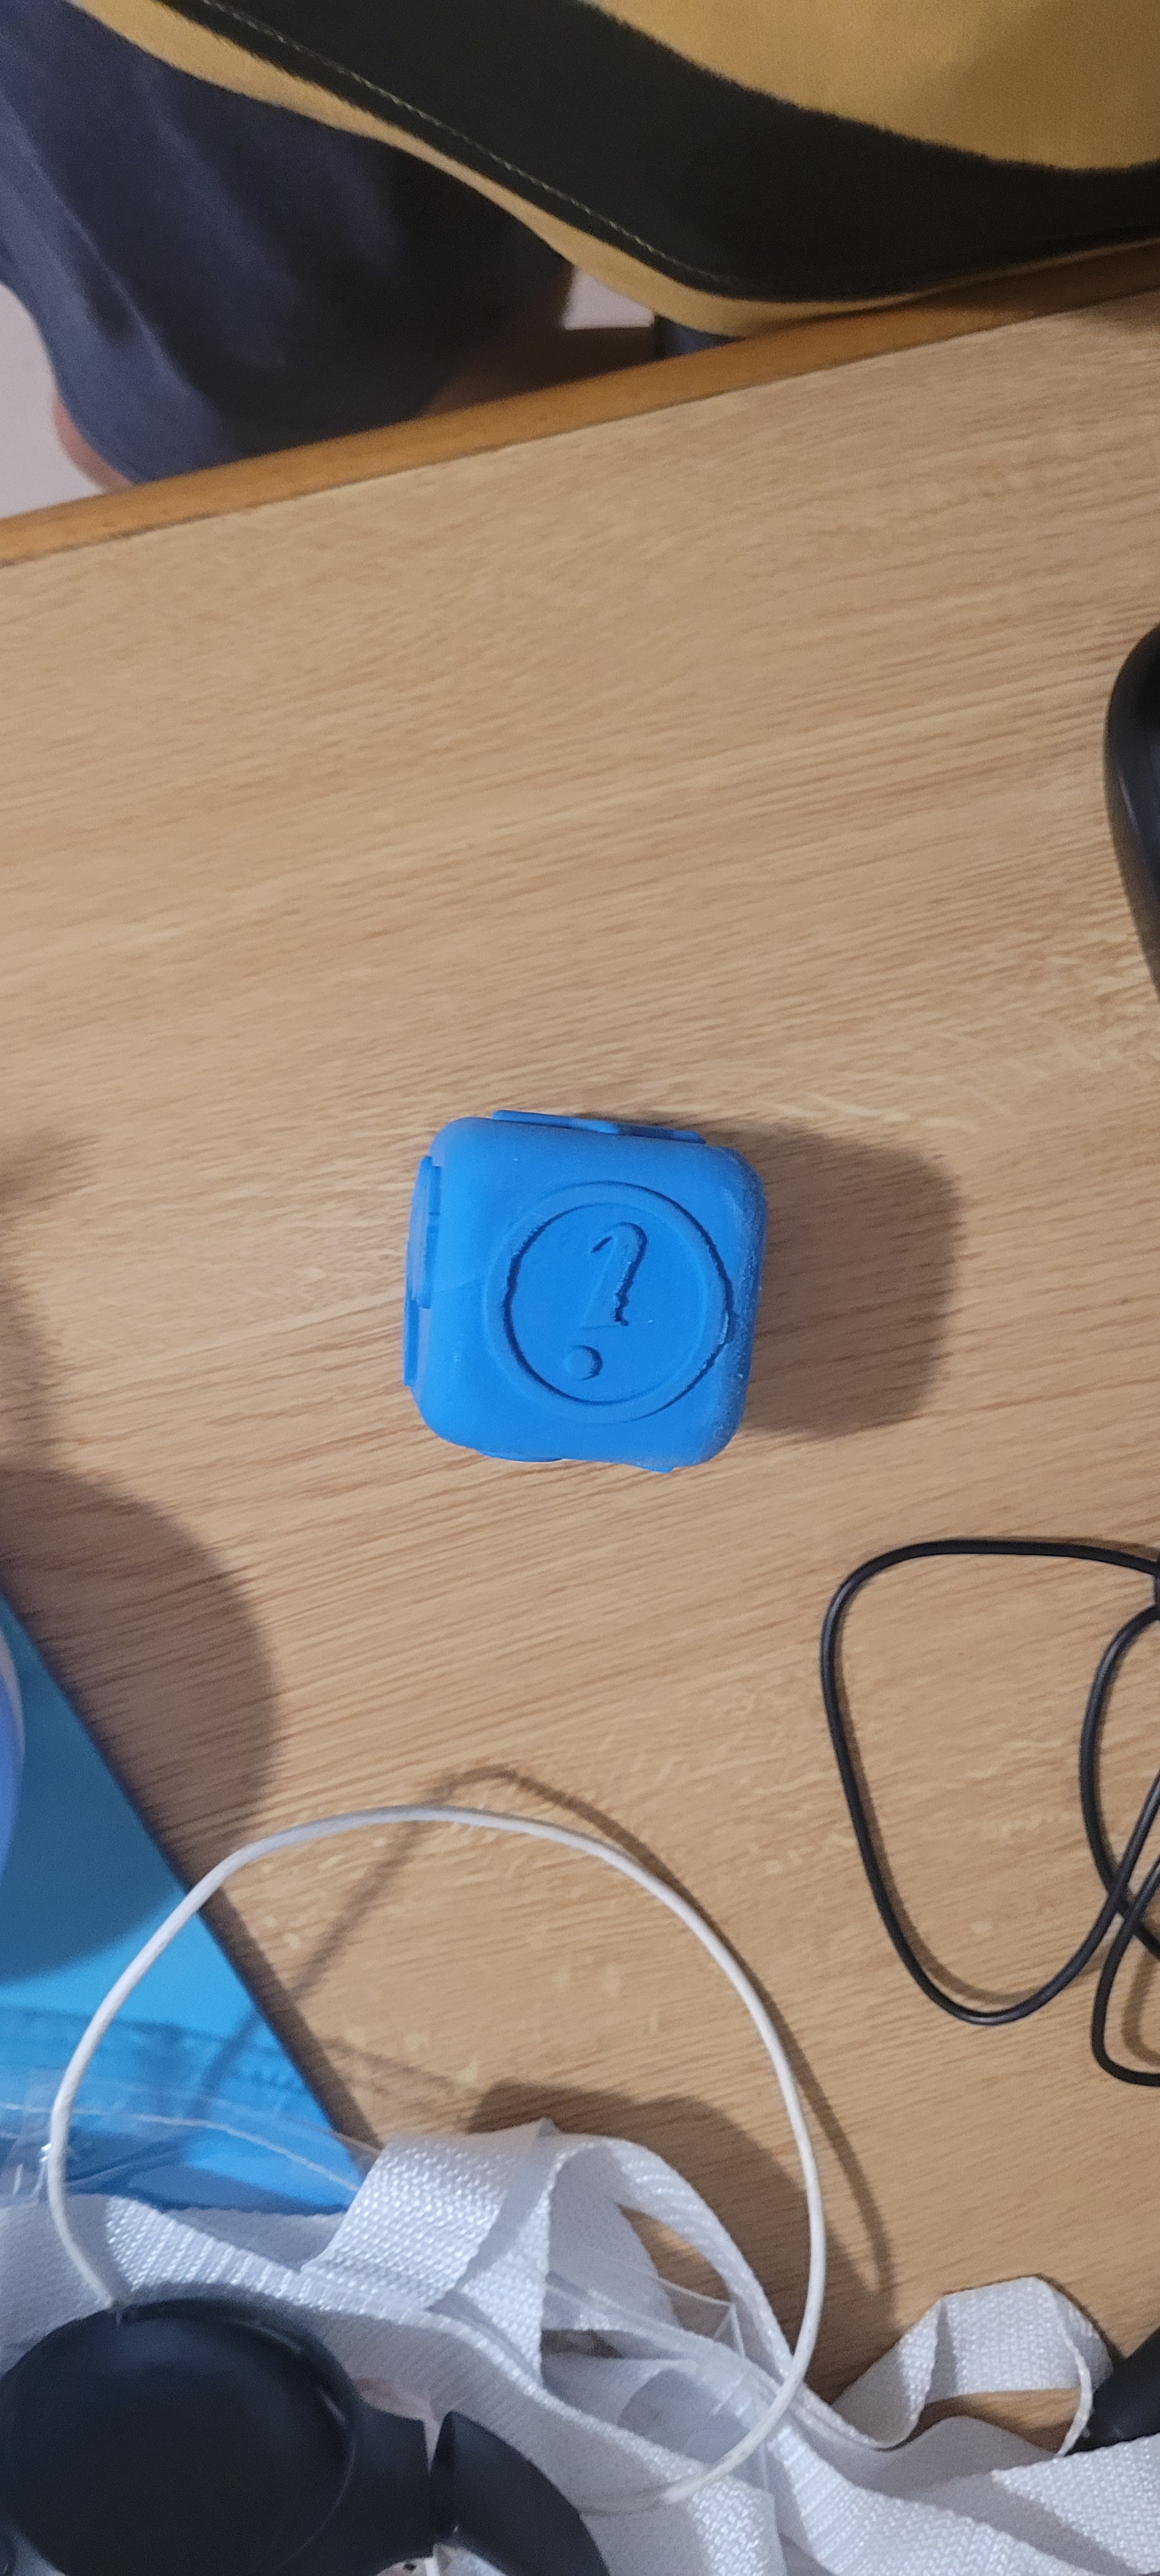Info: (457, 1170, 754, 1437)
